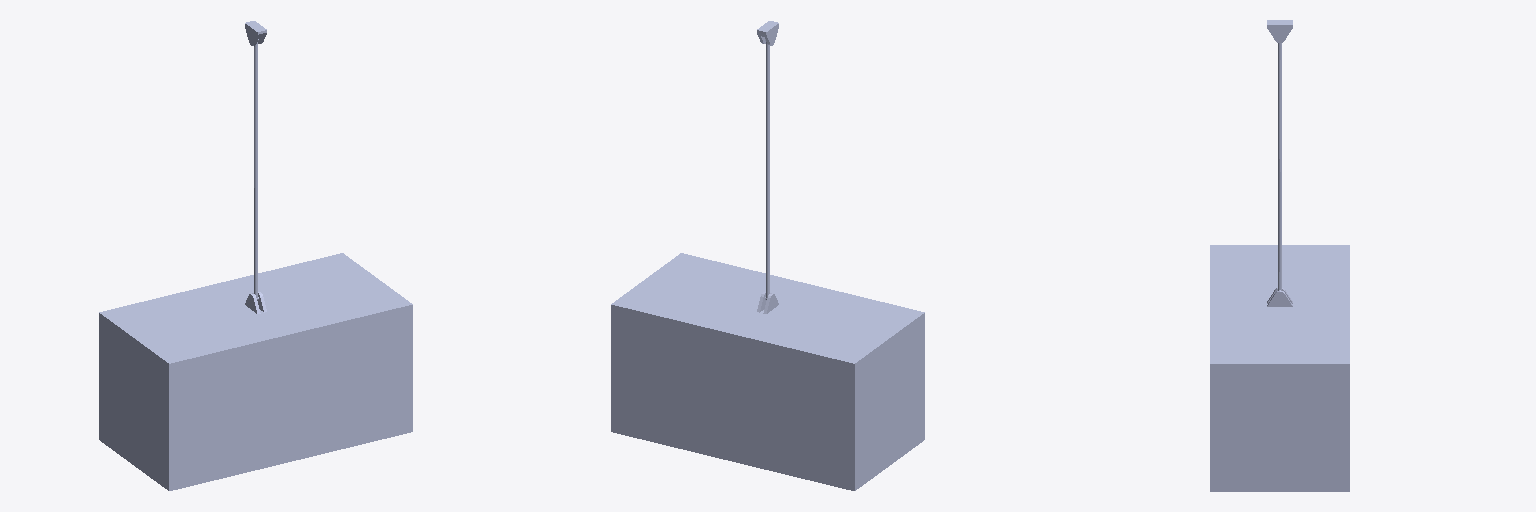
The robot description file, URDF, robot "disturbance_generator":
<robot
  name="disturbance_generator">
  <link
    name="base_link">
    <inertial>
      <origin
        xyz="0 0 0.027"
        rpy="0 0 0" />
      <mass
        value="1" />
      <inertia
        ixx="0.001"
        ixy="0"
        ixz="0"
        iyy="0"
        iyz="0"
        izz="0.001" />
    </inertial>
    <visual>
      <origin
        xyz="0 0 0"
        rpy="0 0 0" />
      <geometry>
        <mesh
          filename="package://disturbance_generator/meshes/base_link.STL" />
      </geometry>
      <material
        name="">
        <color
          rgba="0.79216 0.81961 0.93333 1" />
      </material>
    </visual>
    <collision>
      <origin
        xyz="0 0 0"
        rpy="0 0 0" />
      <geometry>
        <mesh
          filename="package://disturbance_generator/meshes/base_link.STL" />
      </geometry>
    </collision>
  </link>
  <link
    name="rod_link">
    <inertial>
      <origin
        xyz="0 0 -0.507"
        rpy="0 0 0" />
      <mass
        value="1" />
      <inertia
        ixx="0.097"
        ixy="0"
        ixz="0"
        iyy="0.097"
        iyz="0"
        izz="0" />
    </inertial>
    <visual>
      <origin
        xyz="0 0 0"
        rpy="0 0 0" />
      <geometry>
        <mesh
          filename="package://disturbance_generator/meshes/rod_link.STL" />
      </geometry>
      <material
        name="">
        <color
          rgba="0.79216 0.81961 0.93333 1" />
      </material>
    </visual>
    <collision>
      <origin
        xyz="0 0 0"
        rpy="0 0 0" />
      <geometry>
        <mesh
          filename="package://disturbance_generator/meshes/rod_link.STL" />
      </geometry>
    </collision>
  </link>
  <joint
    name="rod_joint"
    type="continuous">
    <origin
      xyz="0 0 0"
      rpy="0 0 0" />
    <parent
      link="base_link" />
    <child
      link="rod_link" />
    <axis
      xyz="1 0 0" />
  </joint>
  <link
    name="mass_link">
    <inertial>
      <origin
        xyz="0 0 -0.29"
        rpy="0 0 0" />
      <mass
        value="15" />
      <inertia
        ixx="0.625"
        ixy="0"
        ixz="0"
        iyy="1.562"
        iyz="0"
        izz="1.562" />
    </inertial>
    <visual>
      <origin
        xyz="0 0 0"
        rpy="0 0 0" />
      <geometry>
        <mesh
          filename="package://disturbance_generator/meshes/mass_link.STL" />
      </geometry>
      <material
        name="">
        <color
          rgba="0.79216 0.81961 0.93333 1" />
      </material>
    </visual>
    <collision>
      <origin
        xyz="0 0 0"
        rpy="0 0 0" />
      <geometry>
        <mesh
          filename="package://disturbance_generator/meshes/mass_link.STL" />
      </geometry>
    </collision>
  </link>
  <joint
    name="mass_joint"
    type="continuous">
    <origin
      xyz="0 0 -1.015"
      rpy="0 0 0" />
    <parent
      link="rod_link" />
    <child
      link="mass_link" />
    <axis
      xyz="1 0 0" />
  </joint>
</robot>

--- Render facts (derived) ---
3 views of the same robot in one strip: view 1: azimuth 30°, elevation 25°; view 2: azimuth 150°, elevation 25°; view 3: azimuth 270°, elevation 25° (orthographic).
Model disturbance_generator with 3 links and 2 joints (2 continuous), rooted at base_link, posed every joint at zero.
Visible links, largest first — view 1: mass_link, rod_link; view 2: mass_link, rod_link; view 3: mass_link, rod_link.
Boxes of the visible links, x1,y1,x2,y2 form: mass_link: (99, 253, 412, 490); rod_link: (250, 38, 258, 300); mass_link: (611, 253, 924, 490); rod_link: (765, 38, 773, 300); mass_link: (1210, 245, 1349, 491); rod_link: (1278, 36, 1281, 298).
Size in the robot's own frame: 1 by 0.5 by 1.6 metres.
3 mesh visuals loaded from 3 distinct referenced files (3 binary STL).